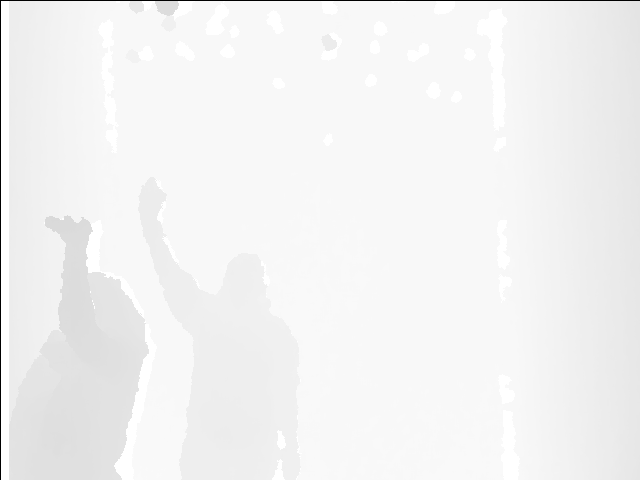hand: (42, 210, 103, 251), (136, 176, 167, 224)
